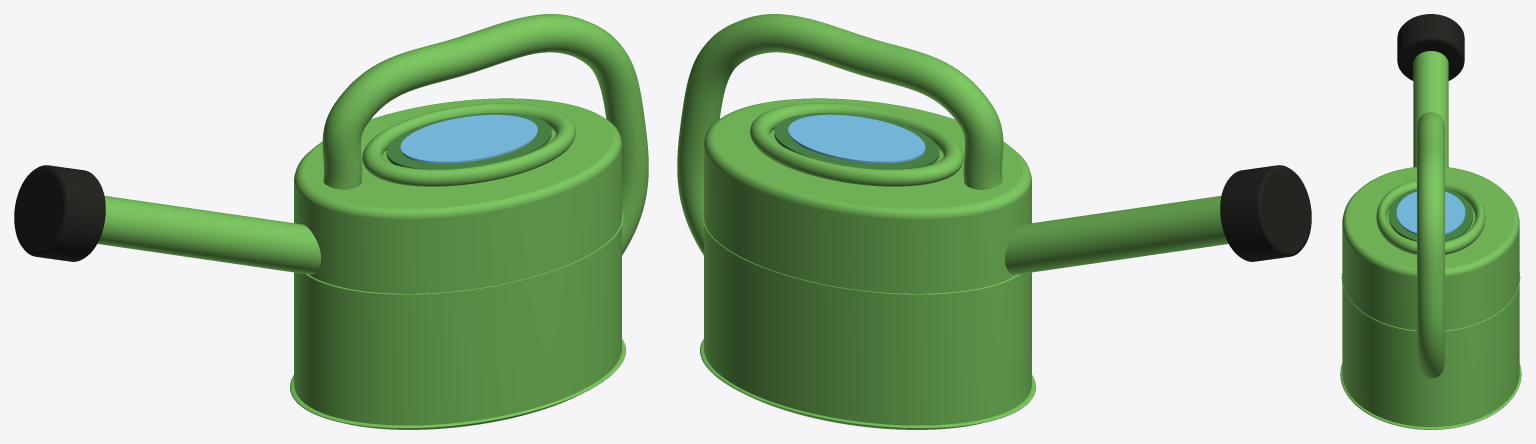
File: watering_can.glb
The picture shows the model from 3 angles, left to right: view 1: azimuth 30°, elevation 25°; view 2: azimuth 150°, elevation 25°; view 3: azimuth 270°, elevation 25°; orthographic projection. The views are drawn at different scales.
Parts seen in each view (by area): view 1: SM_Watering_Can_Round_Handle; view 2: SM_Watering_Can_Round_Handle; view 3: SM_Watering_Can_Round_Handle.
Part boxes in pixels (x1,y1,x2,y2): SM_Watering_Can_Round_Handle: (14,14,648,429); SM_Watering_Can_Round_Handle: (677,14,1311,429); SM_Watering_Can_Round_Handle: (1340,14,1521,429).
Size of the model in its own units: 0.48 by 0.2514 by 0.1673.
